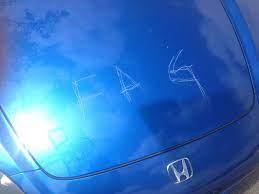bonnet-dent: (0, 38, 258, 193)
